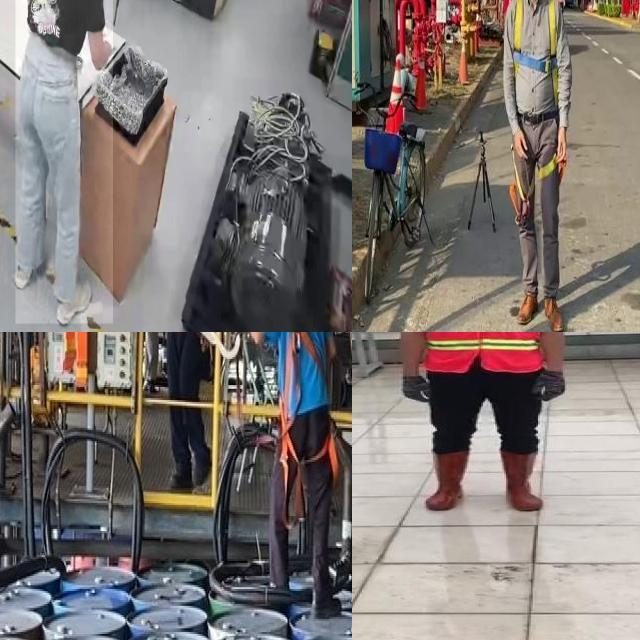Harness: (278, 332, 339, 510), (514, 0, 557, 106), (509, 156, 558, 226)
boots: (497, 447, 545, 512), (422, 450, 472, 511)
person: (386, 332, 576, 515), (15, 0, 113, 324)
shoes: (53, 278, 93, 332), (10, 244, 44, 297)
vest: (417, 332, 547, 375)
